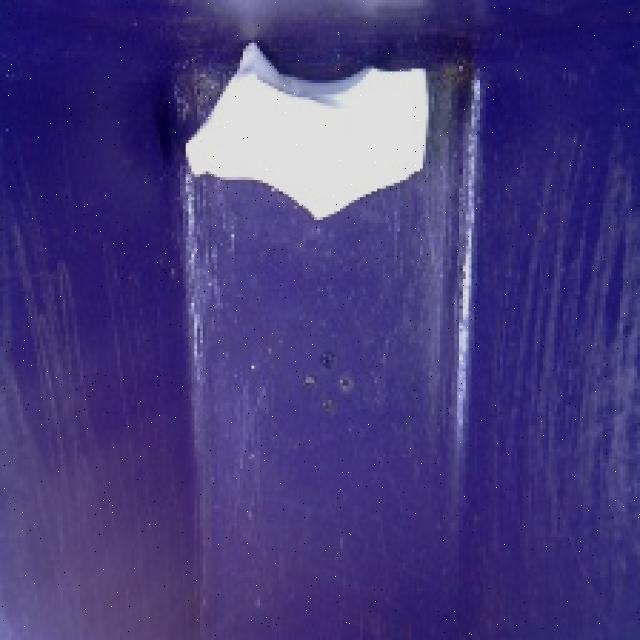china: (168, 34, 441, 230)
